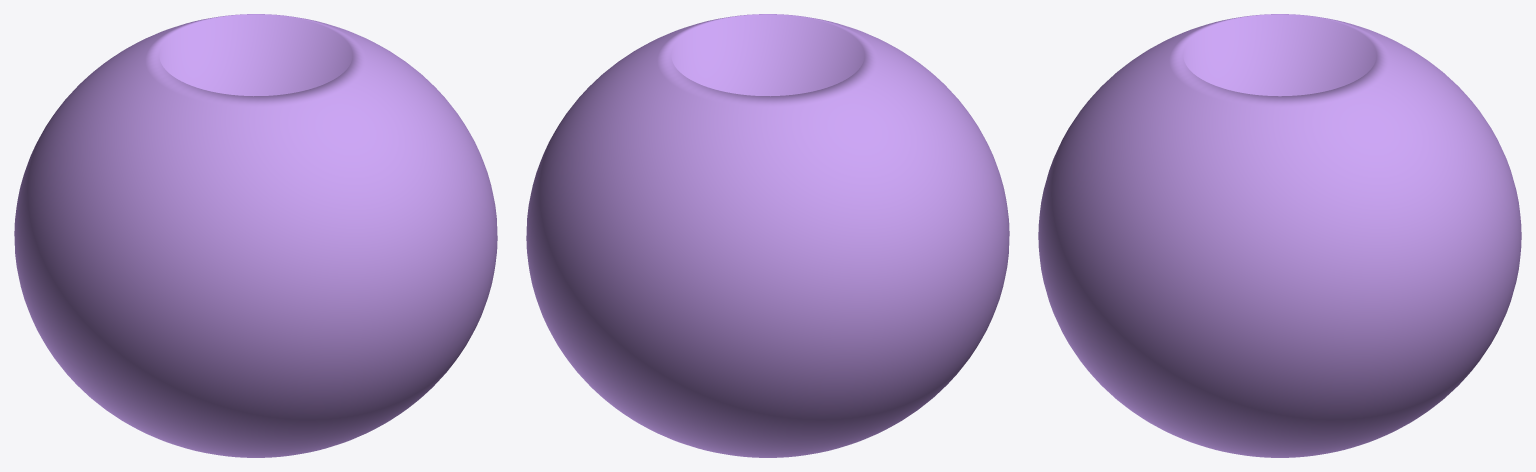
The model's file is spacer-306-glass.glb.
3 views of the same model, side by side, from view 1: azimuth 30°, elevation 25°; view 2: azimuth 150°, elevation 25°; view 3: azimuth 270°, elevation 25° (orthographic).
Visible parts, largest first — view 1: Spacer with through bore.005; view 2: Spacer with through bore.005; view 3: Spacer with through bore.005.
Part boxes in pixels (bbox=[...]): Spacer with through bore.005: bbox=[14, 14, 497, 457]; Spacer with through bore.005: bbox=[526, 14, 1009, 457]; Spacer with through bore.005: bbox=[1038, 14, 1521, 457].
Size of the model in its own units: 0.002 by 0.00165 by 0.002.
